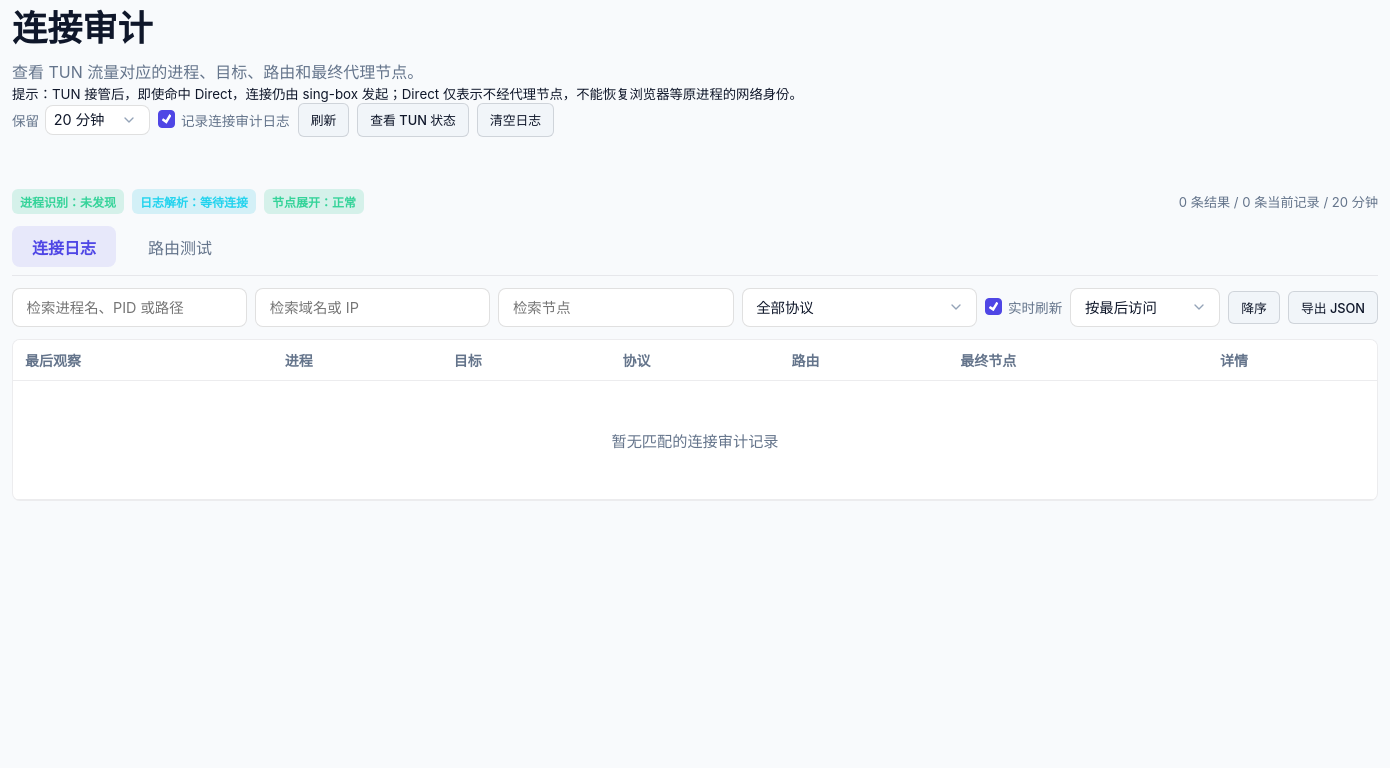
Test case: ConnectionAuditView › shows an actionable warning for automatic TUN capture without bypass routes
The width and height of the screenshot is (1390, 768).
Click the button "查看 TUN 状态" at (413, 120), box [357, 103, 469, 137]
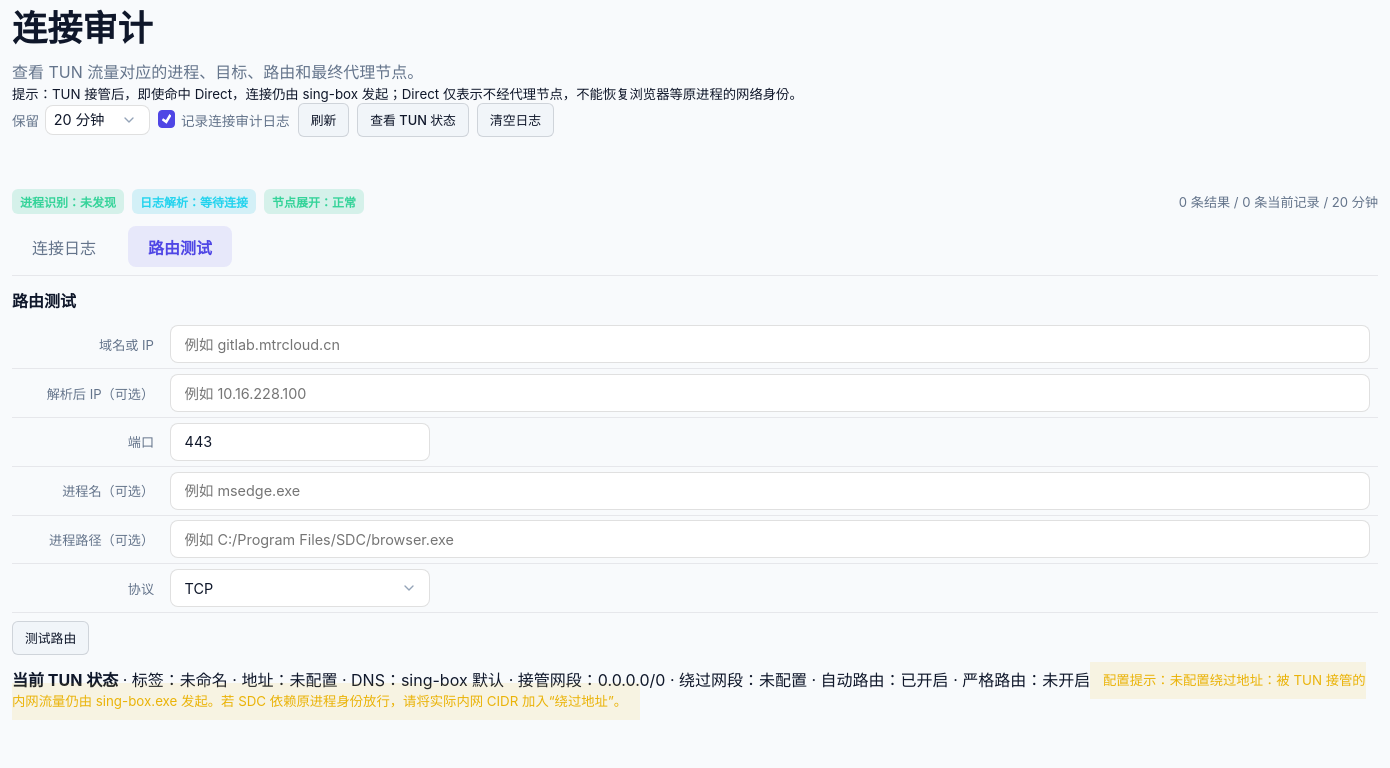
Now the text "配置提示" is shown, box [1103, 673, 1170, 689]
Now the text "若 SDC 依赖原进程身份放行" is shown, box [12, 673, 1366, 710]
